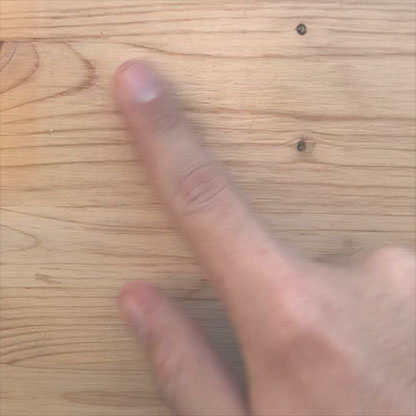fingertip: (111, 51, 185, 119)
